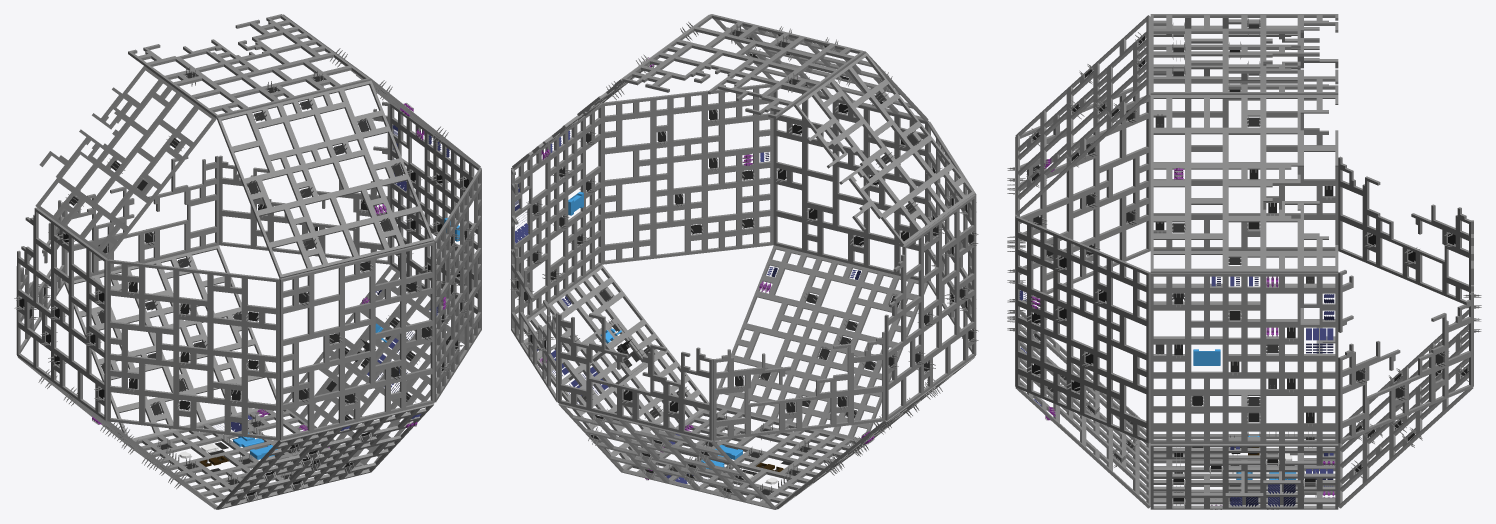
Rendered from StarbaseAtlasProjectProia.glb.
3 renders of one model, left to right at view 1: azimuth 30°, elevation 25°; view 2: azimuth 150°, elevation 25°; view 3: azimuth 270°, elevation 25°, orthographic. The views are drawn at different scales.
Visible parts, largest first — view 1: Block_Marketplace.003, Block.139, Block.125, Block.074; view 2: Block_VIS_HQ.003, Block_Solar.005; view 3: Block_Solar.005, Block_Ship_Hangars_Kingdom.011, Block_Solar.002, Block.168, Block_Solar.004, Block.182, Block.173, Block.174, Block.179, Block.180, Block.175, Block.177 (+5 smaller).
Boxes of the visible parts, bbox=[...] form: Block_Marketplace.003: bbox=[192, 435, 239, 456]; Block.139: bbox=[267, 238, 310, 278]; Block.125: bbox=[244, 275, 279, 311]; Block.074: bbox=[310, 264, 342, 304]; Block_VIS_HQ.003: bbox=[606, 334, 646, 376]; Block_Solar.005: bbox=[511, 203, 531, 248]; Block_Solar.005: bbox=[1300, 323, 1338, 358]; Block_Ship_Hangars_Kingdom.011: bbox=[1188, 342, 1225, 375]; Block_Solar.002: bbox=[1225, 493, 1263, 508]; Block.168: bbox=[1150, 236, 1188, 272]; Block_Solar.004: bbox=[1263, 480, 1300, 495]; Block.182: bbox=[1263, 130, 1300, 166]; Block.173: bbox=[1150, 130, 1188, 165]; Block.174: bbox=[1150, 183, 1188, 218]; Block.179: bbox=[1225, 183, 1263, 218]; Block.180: bbox=[1225, 130, 1263, 165]; Block.175: bbox=[1188, 236, 1225, 272]; Block.177: bbox=[1188, 130, 1225, 165].
Bounding box in the file's own units: 4676 × 4676 × 4676.
